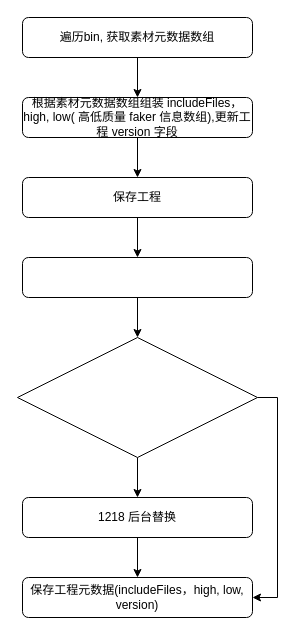
The diagram is 303 pixels wide and 635 high, and some of its shapes have lost their labels. The shapes that lost their labels are listed below. From the top down, each one's centre as x and y in pixels, then its label:
At (x=137, y=277): "上载工程".
At (x=137, y=397): "是否使用本地素材(已上载且写入元数据)？".
